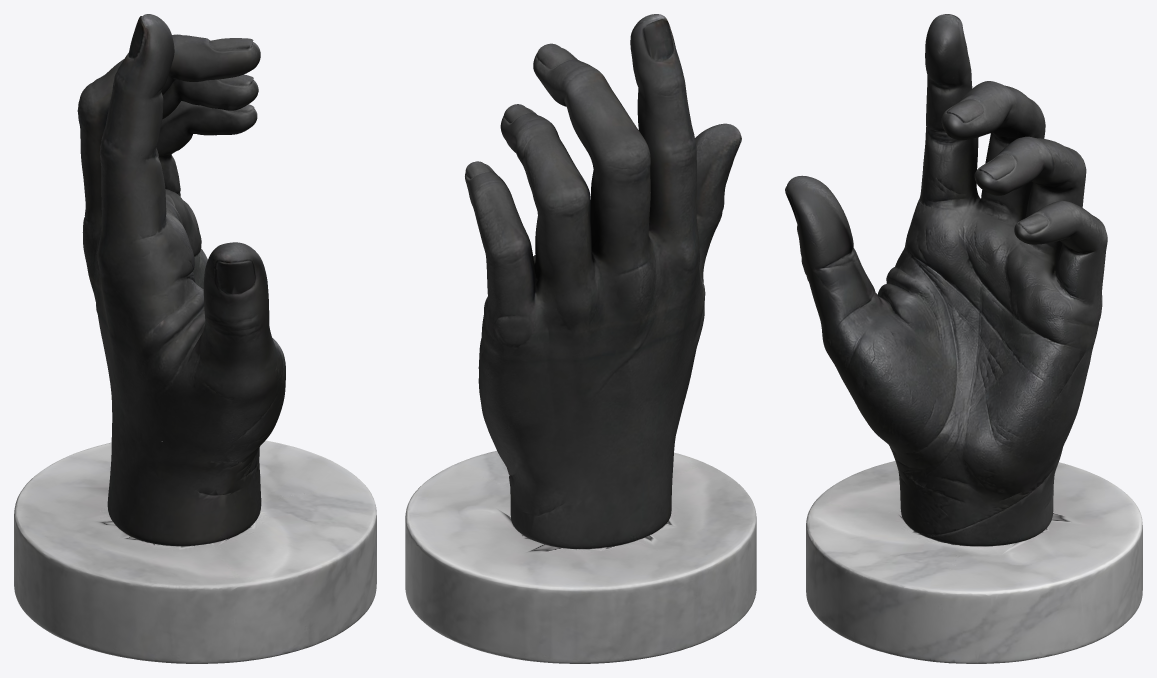
Rendered from mano.glb.
3 views of the same model, side by side, from view 1: azimuth 30°, elevation 25°; view 2: azimuth 150°, elevation 25°; view 3: azimuth 270°, elevation 25° (orthographic). The views are drawn at different scales.
Parts seen in each view (by area): view 1: tripo_node_18b392c2-9468-4078-a877-d03dcc14f3c6; view 2: tripo_node_18b392c2-9468-4078-a877-d03dcc14f3c6; view 3: tripo_node_18b392c2-9468-4078-a877-d03dcc14f3c6.
Part boxes in pixels (x1,y1,x2,y2): tripo_node_18b392c2-9468-4078-a877-d03dcc14f3c6: (14, 14, 376, 663); tripo_node_18b392c2-9468-4078-a877-d03dcc14f3c6: (405, 14, 756, 663); tripo_node_18b392c2-9468-4078-a877-d03dcc14f3c6: (785, 14, 1142, 663).
Bounding box in the file's own units: 0.5395 × 0.9798 × 0.5762.
1 material, 1 textured.
